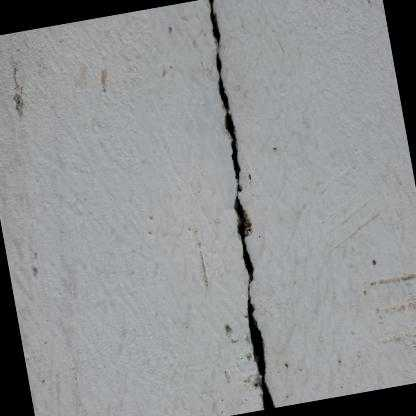crack: (205, 0, 277, 410)
